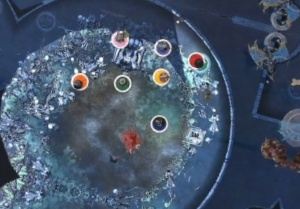blue: (145, 108, 172, 135)
green: (108, 68, 136, 95)
orange: (66, 67, 93, 93)
pink: (103, 24, 131, 51)
red: (185, 49, 206, 71)
violet: (151, 34, 174, 57)
yellow: (147, 62, 174, 88)
